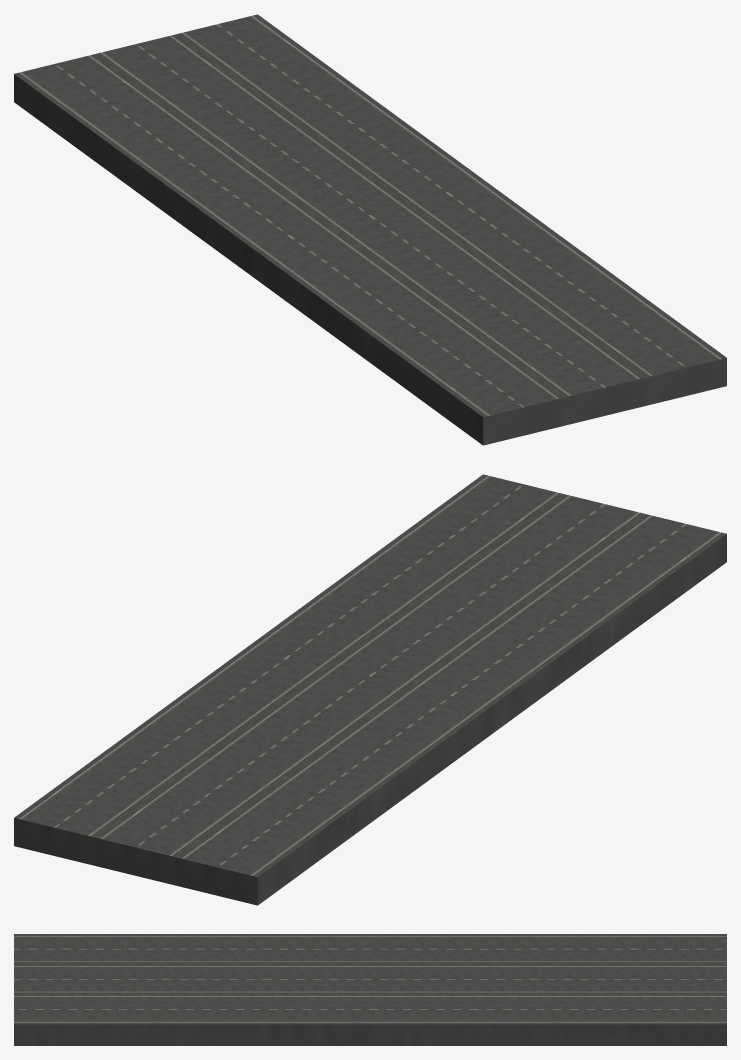
The model's file is TilesV2.fbx.
3 views of the same model, one above another, from view 1: azimuth 30°, elevation 25°; view 2: azimuth 150°, elevation 25°; view 3: azimuth 270°, elevation 25° (orthographic). The views are drawn at different scales.
Visible parts, largest first — view 1: Cube; view 2: Cube; view 3: Cube.
Boxes of the visible parts, box(x1,y1,x2,y2) form: Cube: box(14, 14, 726, 445); Cube: box(14, 474, 726, 905); Cube: box(14, 934, 726, 1045).
Bounding box in the file's own units: 900 × 100 × 3000.
